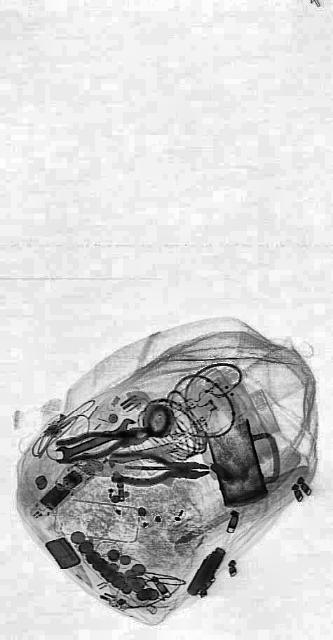Pliers: (55, 417, 151, 468), (110, 449, 210, 486)
Wrench: (53, 413, 135, 463)
